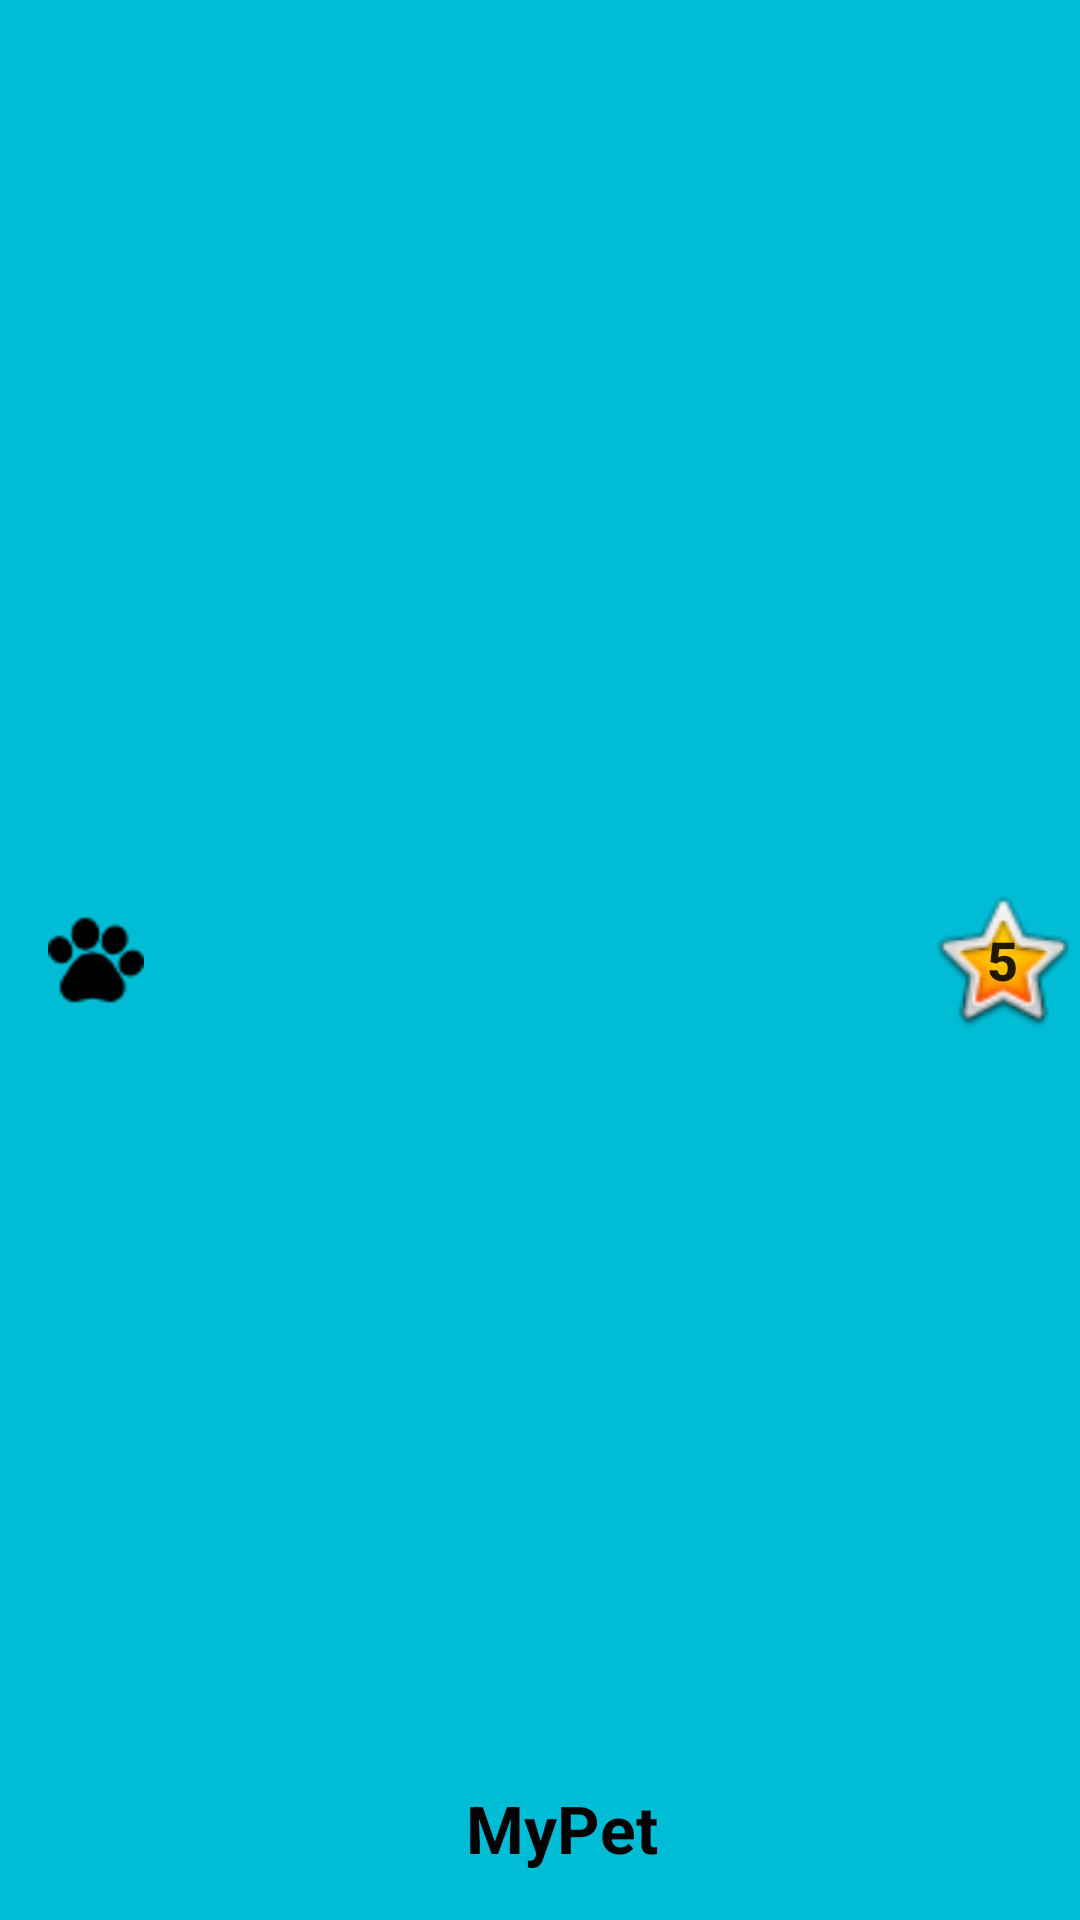

Screen size 1080px×1920px. Icon name, then its center in pixels as (x,y):
huella mascota: (96,960)
